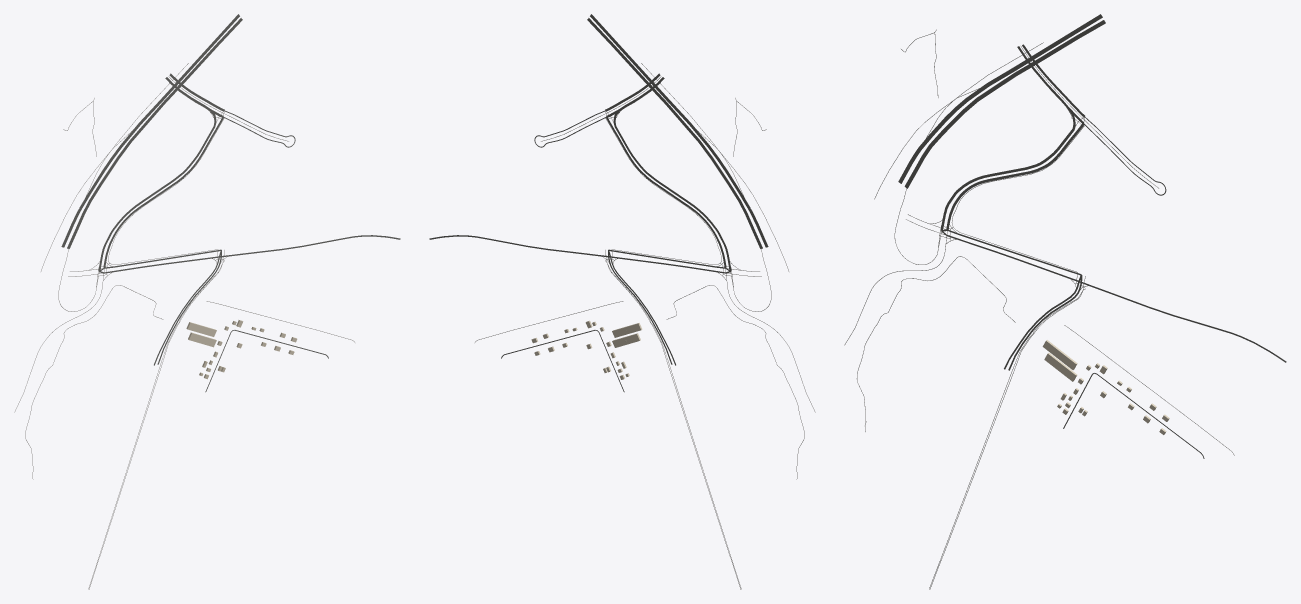
Rendered from historic-palestine-06_25_3480_3199.glb.
The picture shows the model from 3 angles, left to right: view 1: azimuth 30°, elevation 25°; view 2: azimuth 150°, elevation 25°; view 3: azimuth 330°, elevation 25°; orthographic projection. The views are drawn at different scales.
Parts seen in each view (by area): view 1: Road 4.001, Road 4.002, Road .001; view 2: Road 4.001, Road 4.002, Road .001; view 3: Road 4.001, Road 4.002, Road .001, Road .010.
Boxes of the visible parts, bbox=[...] form: Road 4.001: bbox=[67, 18, 242, 248]; Road 4.002: bbox=[79, 14, 239, 209]; Road .001: bbox=[98, 109, 216, 271]; Road 4.001: bbox=[587, 18, 762, 248]; Road 4.002: bbox=[590, 14, 750, 209]; Road .001: bbox=[613, 109, 731, 271]; Road 4.001: bbox=[904, 20, 1105, 188]; Road 4.002: bbox=[918, 14, 1102, 149]; Road .001: bbox=[940, 108, 1075, 230]; Road .010: bbox=[946, 123, 1084, 229].
Bounding box in the file's own units: 1500 × 2002 × 8.7.
